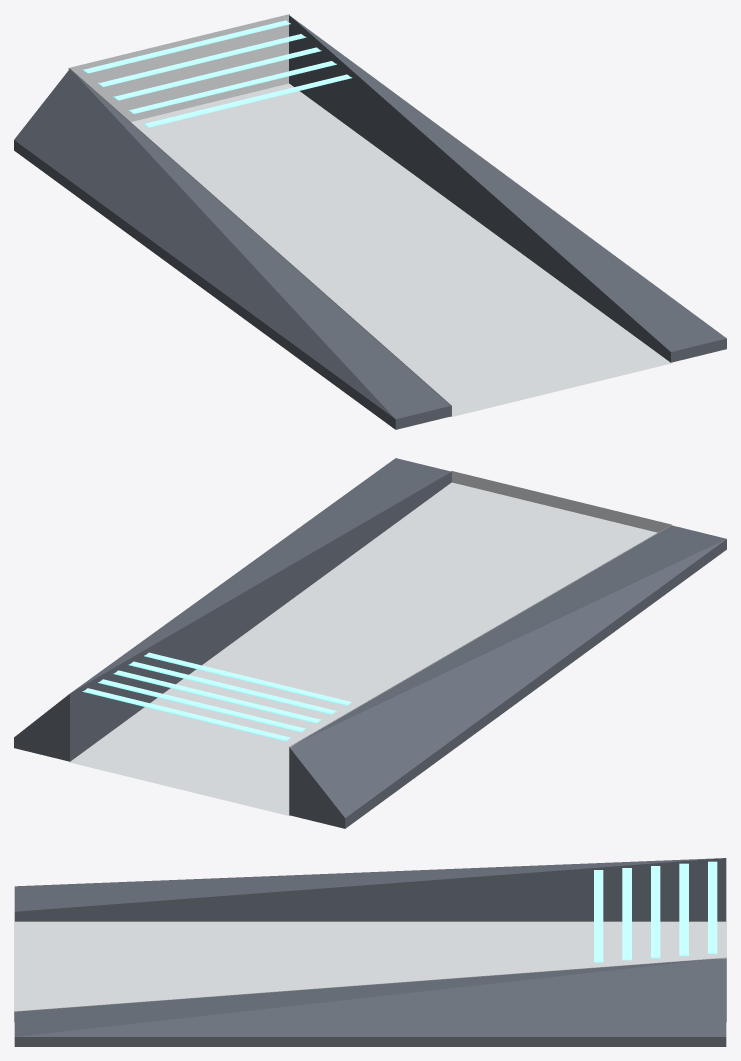
File: ext_kerb_ramp_04.glb
3 views of the same model, one above another, from view 1: azimuth 30°, elevation 25°; view 2: azimuth 150°, elevation 25°; view 3: azimuth 270°, elevation 25° (orthographic). The views are drawn at different scales.
Parts seen in each view (by area): view 1: Ramp, Flares, Tactile_Bars; view 2: Ramp, Flares, Tactile_Bars; view 3: Flares, Ramp, Tactile_Bars.
Part boxes in pixels (<box>): Ramp: <box>68,14,671,416</box>; Flares: <box>14,15,726,429</box>; Tactile_Bars: <box>82,20,352,127</box>; Ramp: <box>69,471,671,815</box>; Flares: <box>14,458,726,828</box>; Tactile_Bars: <box>82,652,352,741</box>; Flares: <box>14,858,726,1046</box>; Ramp: <box>14,921,726,1022</box>; Tactile_Bars: <box>594,861,717,962</box>.
Size of the model in its own units: 1.5 by 0.3022 by 3.
